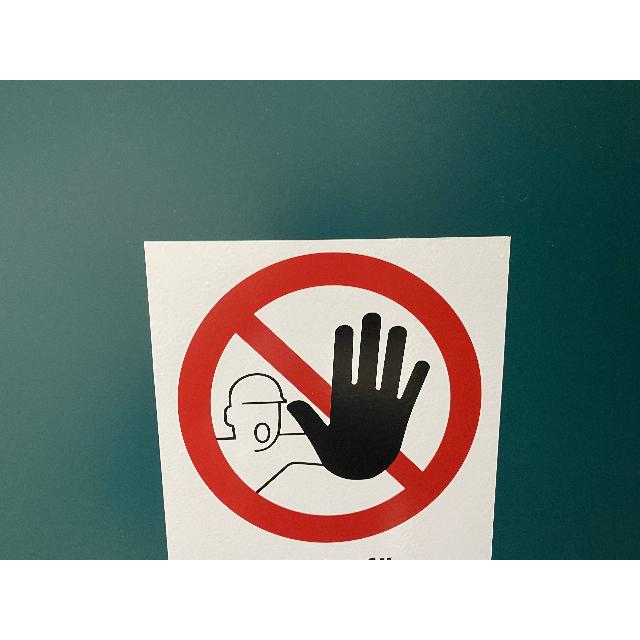No access for unauthorized persons: (178, 252, 482, 544)
